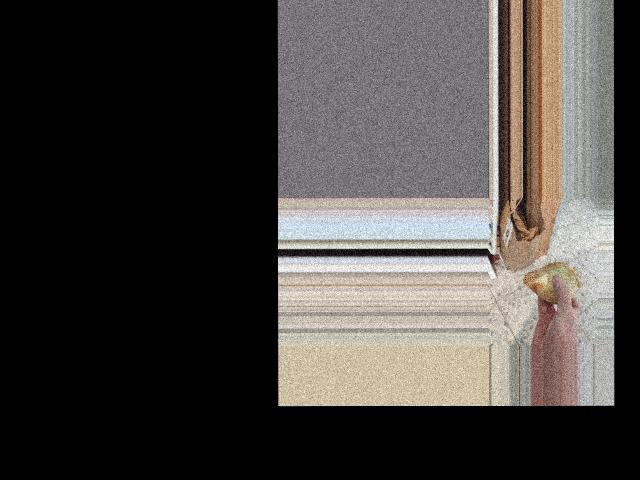onion: (523, 260, 581, 307)
